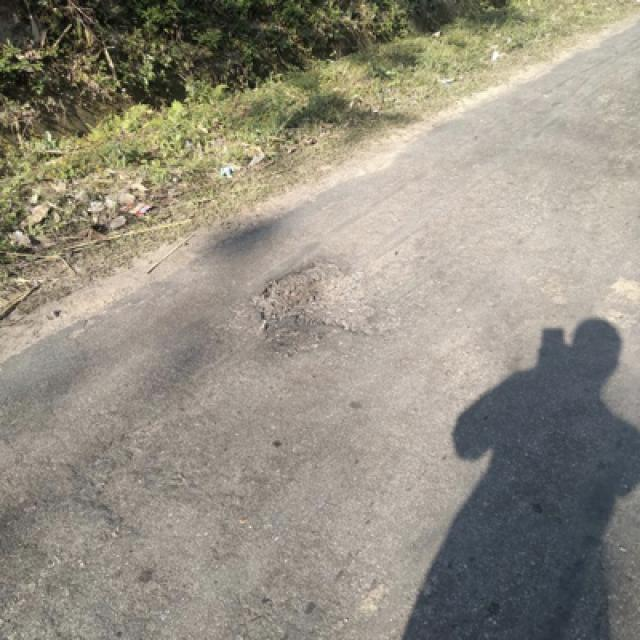jalan_berlubang: (257, 258, 385, 342)
